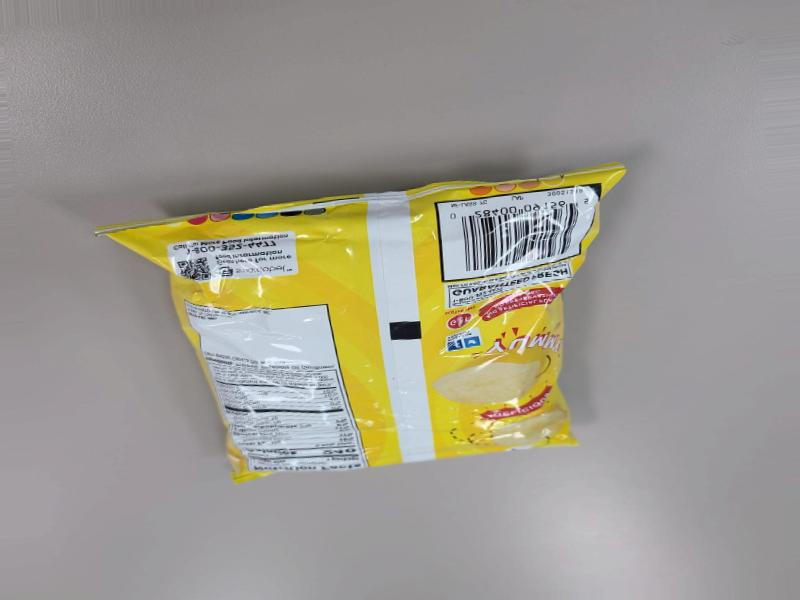lays: (97, 165, 586, 492)
